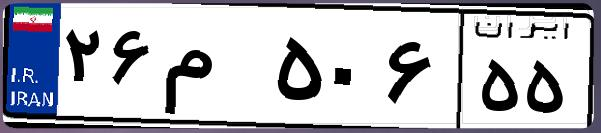0: (330, 28, 385, 110)
2: (57, 26, 110, 100)
5: (270, 28, 330, 110), (475, 38, 525, 113), (525, 38, 570, 115)
6: (385, 28, 445, 110), (110, 28, 158, 98)
م: (158, 20, 270, 120)
